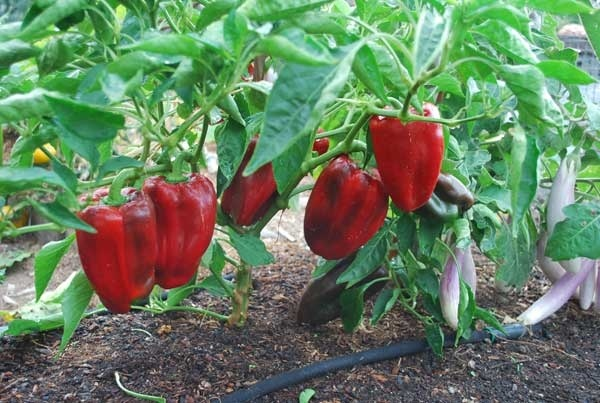fruit: (76, 188, 157, 315), (304, 154, 389, 261), (142, 173, 217, 289), (371, 101, 445, 214), (297, 250, 388, 329), (217, 131, 277, 228), (416, 171, 476, 230)
pedicle: (100, 192, 135, 208), (163, 172, 190, 186), (357, 161, 371, 172)
